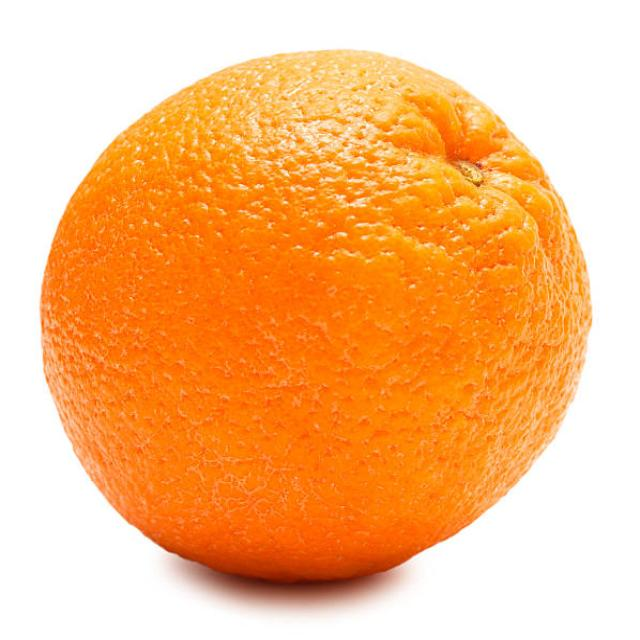Ripe: (28, 45, 600, 588)
